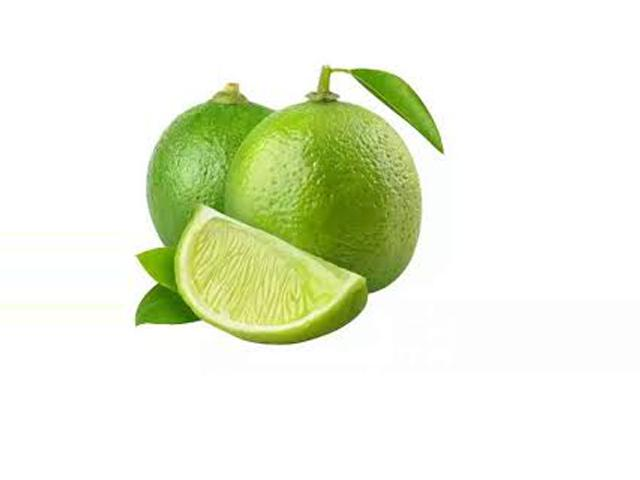lemon: (230, 89, 423, 284)
